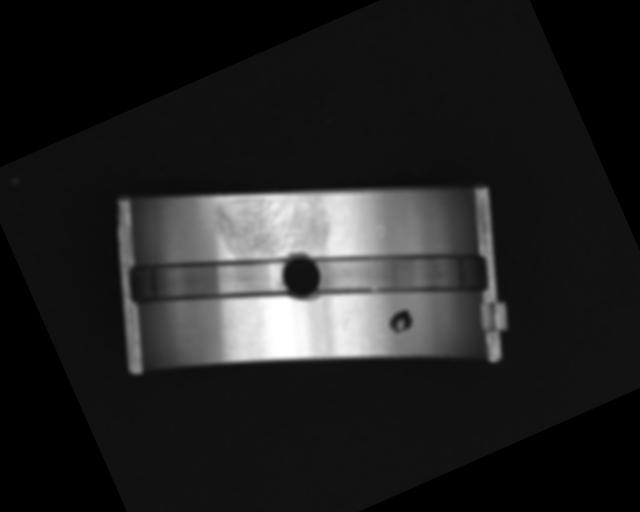blot: (383, 306, 418, 339)
bruise: (374, 222, 388, 240)
gap: (307, 199, 490, 346), (122, 213, 293, 346)
hole: (273, 247, 329, 307)
scratch: (206, 165, 336, 283)
